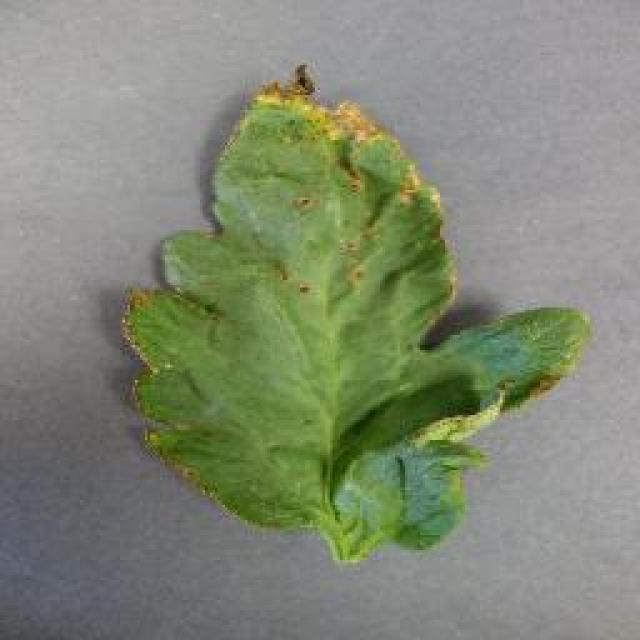Tomato bacterial spot leaf: (115, 64, 590, 568)
